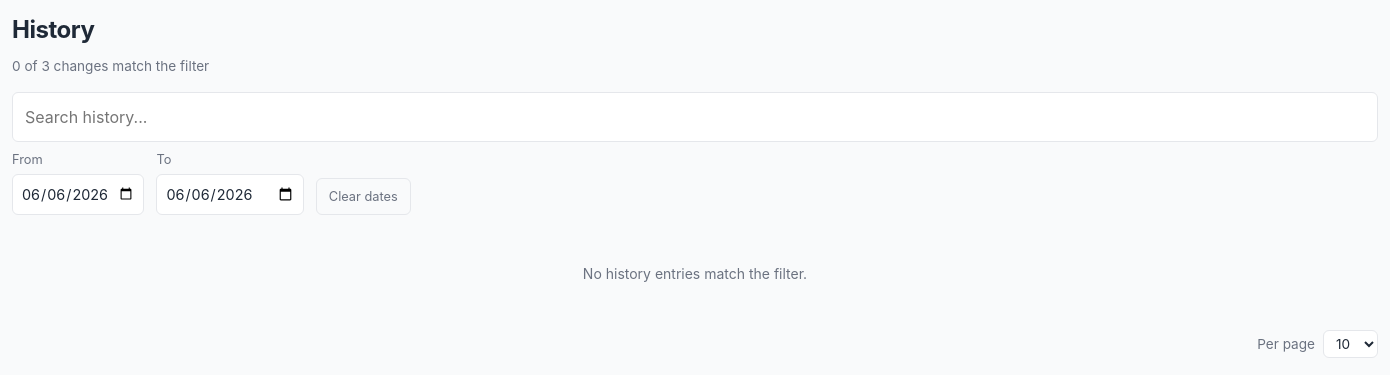
Scenario: HistoryView — date-range filter › filters by history entry timestamp date
The image size is (1390, 375).
Expected: the field labelled "Search history..." is shown, [12,92,1378,142]
Step 1. Type "2026-05-01" into the date field named "from date" → [78, 194], box [12,174,144,215]
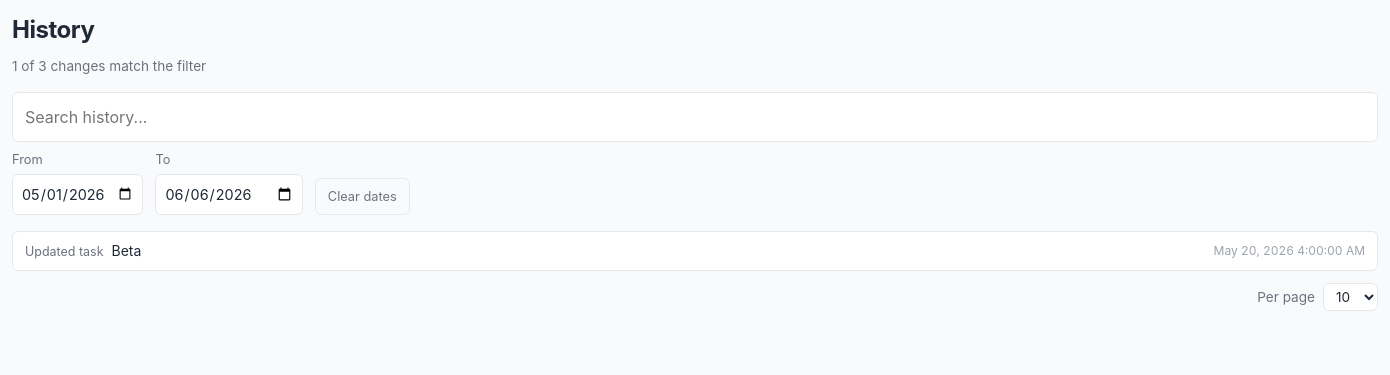
Step 2. Type "2026-12-31" into the date field named "to date" → [229, 194], box [155,174,303,215]
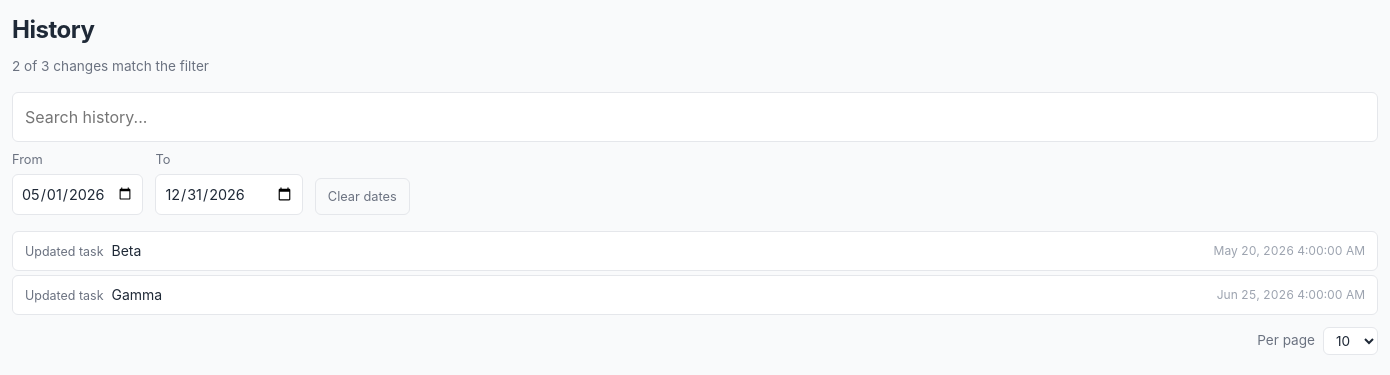
Expected: the text "Beta" is shown, [112,240,141,261]
Expected: the text "Gamma" is shown, [112,284,162,305]
